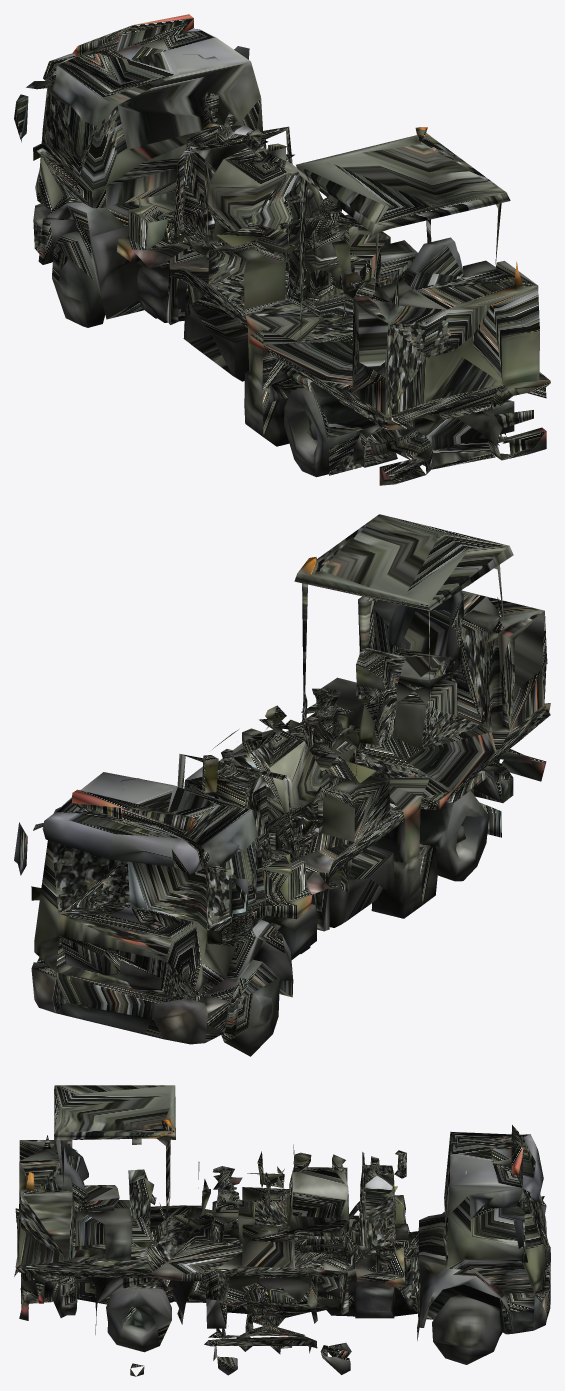
File: caminhao-pintura-faixas_lod1.glb
The picture shows the model from 3 angles, top to bottom: view 1: azimuth 30°, elevation 25°; view 2: azimuth 150°, elevation 25°; view 3: azimuth 270°, elevation 25°; orthographic projection. The views are drawn at different scales.
Visible parts, largest first — view 1: tripo_node_d9fb47af-b1ad-4608-aa5e-57296297f3ee; view 2: tripo_node_d9fb47af-b1ad-4608-aa5e-57296297f3ee; view 3: tripo_node_d9fb47af-b1ad-4608-aa5e-57296297f3ee.
Boxes of the visible parts, x1=… form: tripo_node_d9fb47af-b1ad-4608-aa5e-57296297f3ee: x1=14, y1=14, x2=550, y2=485; tripo_node_d9fb47af-b1ad-4608-aa5e-57296297f3ee: x1=14, y1=514, x2=550, y2=1056; tripo_node_d9fb47af-b1ad-4608-aa5e-57296297f3ee: x1=14, y1=1085, x2=550, y2=1376.
Size of the model in its own units: 3.03 by 3.86 by 8.
Materials: 1 (1 with a texture image).
